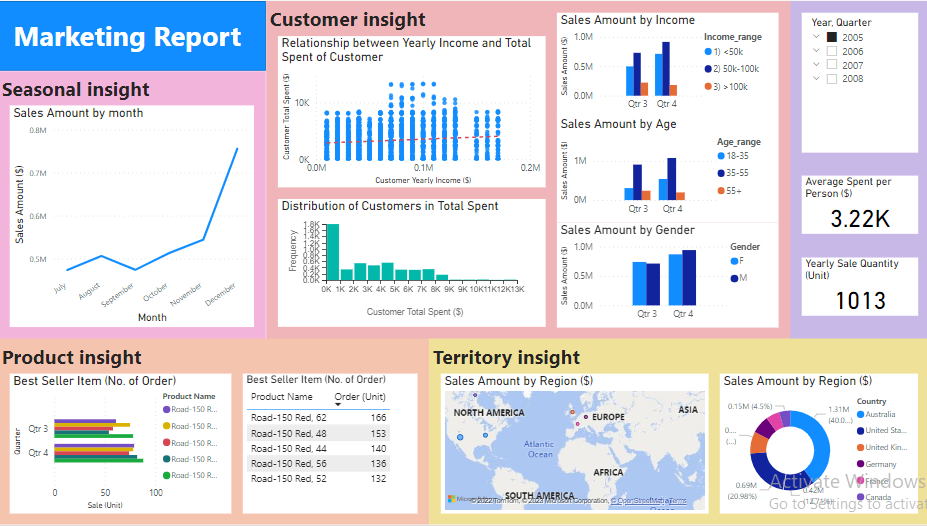

The page's visual inventory and layout, read from the dashboard file:
{"tool":"powerbi","page":{"name":"Duplicate of Dashboard","canvas":[1280,720],"ordinal":0},"visuals":[{"type":"textbox","box":[1088,0,192,464],"z":0},{"type":"textbox","box":[0,96,368,368],"z":1000},{"type":"shape","box":[0,0,368,96],"z":2000},{"type":"textbox","box":[16,16,416,64],"z":3000},{"type":"card","title":"Yearly Sale Quantity (Unit)","fields":{"Values":["Sum(Sales.Order Quantity)"]},"box":[1104,352,160,80],"z":5000},{"type":"card","title":"Average Spent per Person ($)","fields":{"Values":["Sales.AverageSpent"]},"box":[1104,240,160,80],"z":6000},{"type":"textbox","box":[368,0,720,464],"z":7000},{"type":"textbox","box":[0,464,592,256],"z":8000},{"type":"textbox","box":[592,464,688,256],"z":9000},{"type":"scatterChart","title":"Relationship between Yearly Income and Total Spent of Customer","fields":{"X":["Customer.Yearly Income"],"Y":["Customer.TotalSpent"],"Series":["Sales.Order Date.Variation.Date Hierarchy.Year"]},"box":[384,48,368,208],"z":10000},{"type":"clusteredBarChart","title":"Best Seller Item (No. of Order)","fields":{"Category":["Date(Order).Date.Variation.Date Hierarchy.Quarter","Date(Order).Date.Variation.Date Hierarchy.Month","Date(Order).Date.Variation.Date Hierarchy.Day","Sales.OrderDateKey"],"Series":["Product.English Product Name"],"Y":["Sum(Sales.Order Quantity)"]},"box":[16,512,304,192],"z":11000},{"type":"donutChart","title":"Sales Amount by Region ($)","fields":{"Category":["Sale Territory.Sales Territory Country"],"Series":["Sale Territory.Sales Territory Region"],"Y":["Sum(Sales.Sales Amount)"]},"box":[992,512,272,192],"z":12000},{"type":"lineChart","title":"Sales Amount by month","fields":{"Y":["Sum(Sales.Sales Amount)"],"Category":["Date(Order).Date.Variation.Date Hierarchy.Month"]},"box":[16,144,336,304],"z":16000},{"type":"Histogram1445664487616","title":"Distribution of Customers in Total Spent","fields":{"Values":["Customer.TotalSpent"],"Frequency":["Customer.Count"]},"box":[384,272,368,176],"z":17000},{"type":"lineClusteredColumnComboChart","title":"Sales Amount by Income","fields":{"Category":["Sales.Order Date.Variation.Date Hierarchy.Quarter","Sales.Order Date.Variation.Date Hierarchy.Month","Sales.Order Date.Variation.Date Hierarchy.Day"],"Y":["Sum(Sales.Sales Amount)"],"Series":["Customer.Income_range"]},"box":[768,16,304,144],"z":20000},{"type":"map","title":"Sales Amount by Region ($)","fields":{"Category":["Sale Territory.Sales Territory Region"],"Size":["Sum(Sales.Sales Amount)"]},"box":[608,512,368,192],"z":21000},{"type":"slicer","fields":{"Values":["Sales.Order Date.Variation.Date Hierarchy.Year","Sales.Order Date.Variation.Date Hierarchy.Quarter"]},"box":[1104,16,160,192],"z":22000},{"type":"tableEx","title":"Best Seller Item (No. of Order)","fields":{"Values":["Product.English Product Name","Sum(Sales.Order Quantity)"]},"box":[336,512,240,192],"z":22500},{"type":"lineClusteredColumnComboChart","title":"Sales Amount by Age","fields":{"Category":["Sales.Order Date.Variation.Date Hierarchy.Quarter","Sales.Order Date.Variation.Date Hierarchy.Month","Sales.Order Date.Variation.Date Hierarchy.Day"],"Y":["Sum(Sales.Sales Amount)"],"Series":["Sales.Age_range"]},"box":[768,160,304,144],"z":23000},{"type":"lineClusteredColumnComboChart","title":"Sales Amount by Gender","fields":{"Category":["Sales.Order Date.Variation.Date Hierarchy.Quarter","Sales.Order Date.Variation.Date Hierarchy.Month","Sales.Order Date.Variation.Date Hierarchy.Day"],"Y":["Sum(Sales.Sales Amount)"],"Series":["Customer.Gender"]},"box":[768,304,304,144],"z":23500}]}

Visuals, with their boxes in screenshot pixels (x1, y1, x2, y2), scaled from the page's 1280x720 canvas onto the 927x526 screenshot:
textbox: l=788, t=0, r=926, b=339
textbox: l=0, t=70, r=267, b=339
shape: l=0, t=0, r=267, b=70
textbox: l=12, t=12, r=313, b=58
"Yearly Sale Quantity (Unit)" card: l=800, t=257, r=915, b=316
"Average Spent per Person ($)" card: l=800, t=175, r=915, b=234
textbox: l=267, t=0, r=788, b=339
textbox: l=0, t=339, r=429, b=525
textbox: l=429, t=339, r=926, b=525
"Relationship between Yearly Income and Total Spent of Customer" scatterChart: l=278, t=35, r=545, b=187
"Best Seller Item (No. of Order)" clusteredBarChart: l=12, t=374, r=232, b=514
"Sales Amount by Region ($)" donutChart: l=718, t=374, r=915, b=514
"Sales Amount by month" lineChart: l=12, t=105, r=255, b=327
"Distribution of Customers in Total Spent" Histogram1445664487616: l=278, t=199, r=545, b=327
"Sales Amount by Income" lineClusteredColumnComboChart: l=556, t=12, r=776, b=117
"Sales Amount by Region ($)" map: l=440, t=374, r=707, b=514
slicer - Sales.Order Date.Variation.Date Hierarchy.Year x Sales.Order Date.Variation.Date Hierarchy.Quarter: l=800, t=12, r=915, b=152
"Best Seller Item (No. of Order)" tableEx: l=243, t=374, r=417, b=514
"Sales Amount by Age" lineClusteredColumnComboChart: l=556, t=117, r=776, b=222
"Sales Amount by Gender" lineClusteredColumnComboChart: l=556, t=222, r=776, b=327
